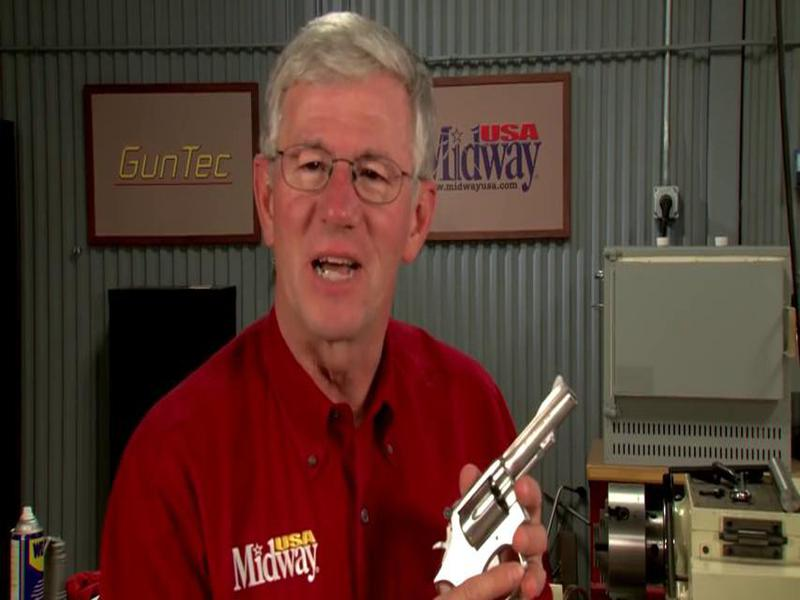Revolver: (426, 363, 577, 595)
